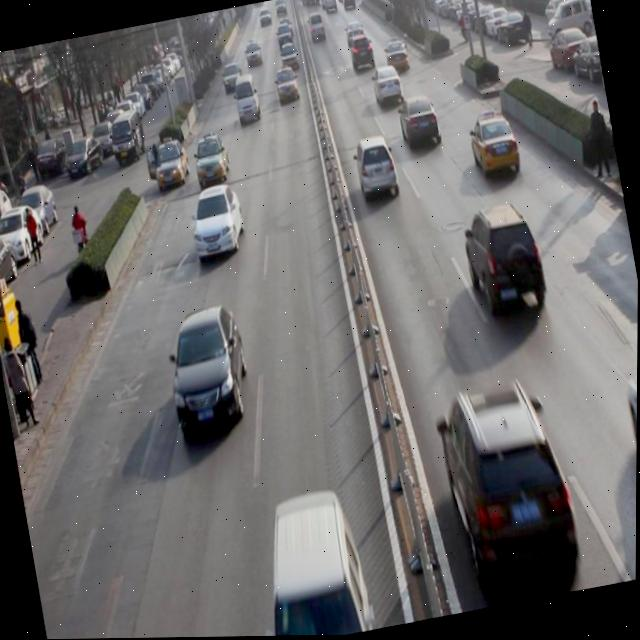car: (432, 370, 588, 602), (457, 196, 553, 330), (161, 304, 258, 434), (184, 180, 249, 265), (466, 106, 525, 185), (351, 135, 404, 206), (395, 89, 445, 155), (189, 127, 231, 187), (367, 59, 406, 111), (151, 140, 191, 189), (625, 375, 638, 506), (270, 64, 301, 108), (348, 33, 378, 73), (219, 59, 244, 94), (385, 37, 409, 73)
truck: (255, 492, 372, 637), (229, 71, 262, 129)
